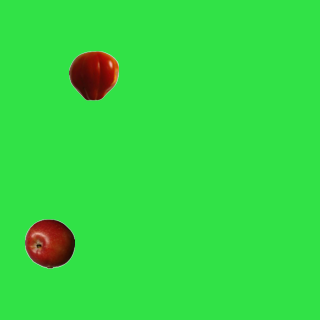Apple Braeburn: (24, 218, 74, 268)
Tomato 1: (68, 50, 118, 100)
